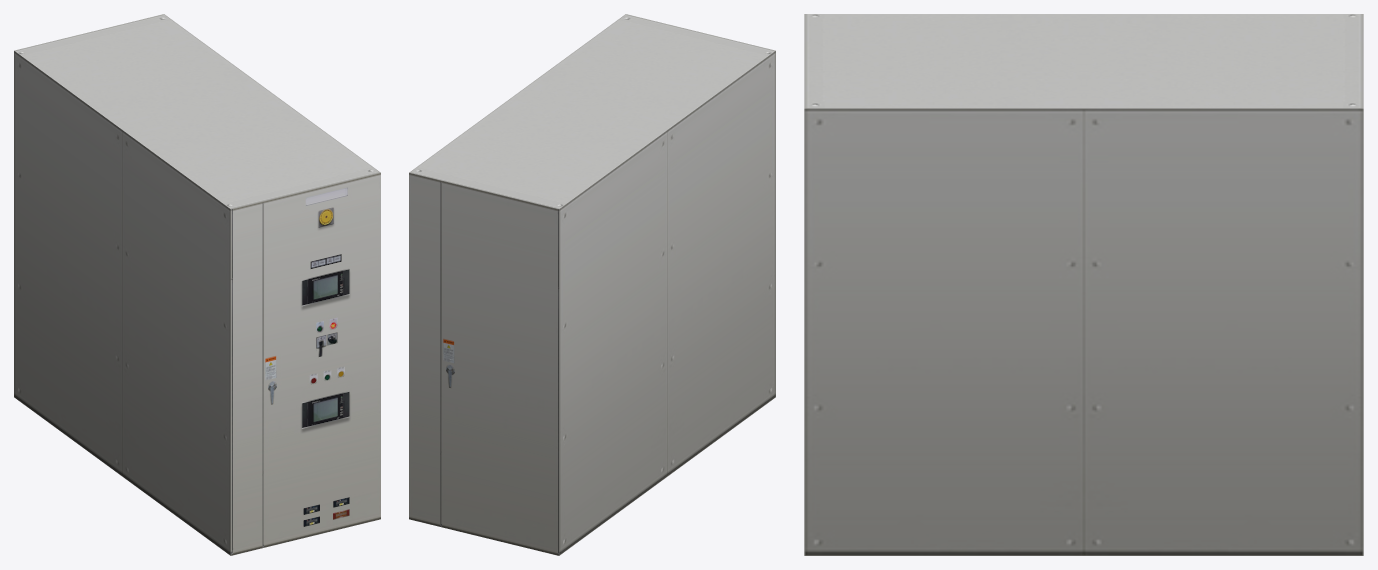
The model's file is SHV_03.gltf.
3 views of the same model, side by side, from view 1: azimuth 30°, elevation 25°; view 2: azimuth 150°, elevation 25°; view 3: azimuth 270°, elevation 25° (orthographic). The views are drawn at different scales.
Visible parts, largest first — view 1: SHV-6; view 2: SHV-6; view 3: SHV-6.
Boxes of the visible parts, box(x1,y1,x2,y2) form: SHV-6: box(14, 14, 380, 555); SHV-6: box(409, 14, 775, 555); SHV-6: box(804, 14, 1363, 555).
Bounding box in the file's own units: 1.2 × 2.65 × 3.
Materials: 1 (1 with a texture image).
